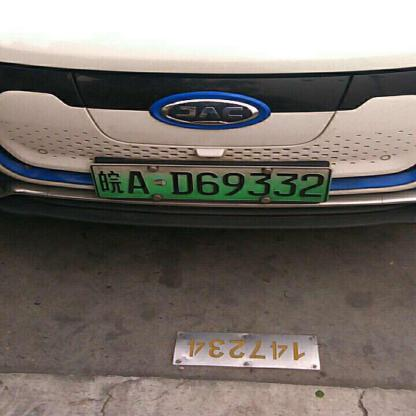lp: (91, 164, 330, 203)
